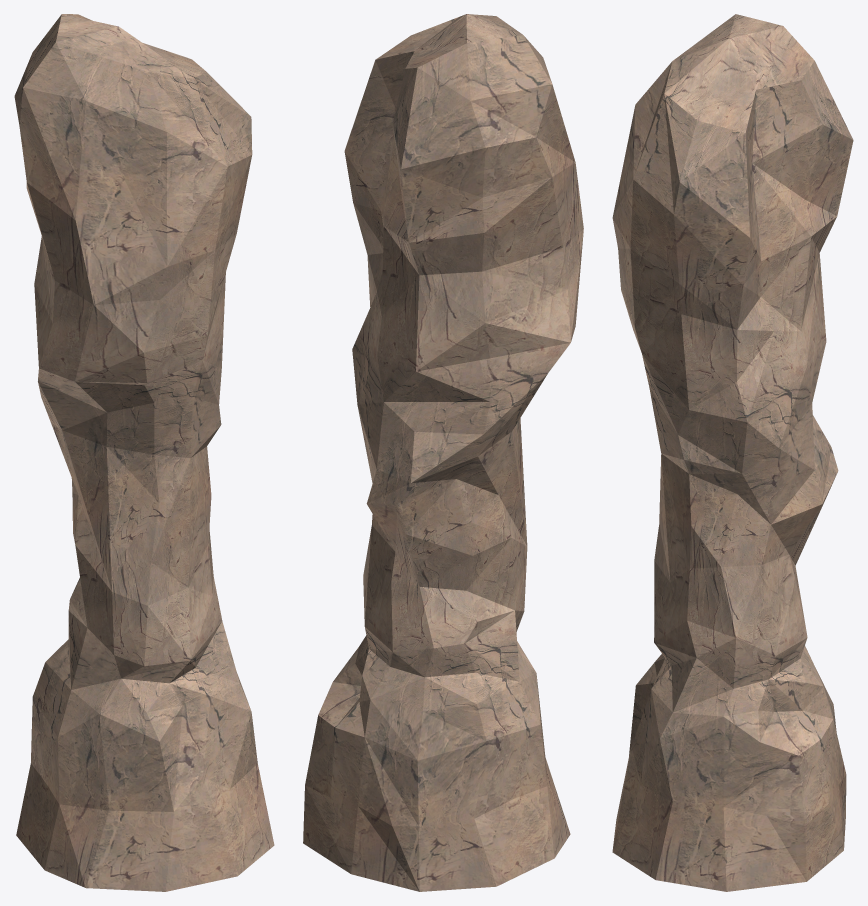
The model's file is rock_tatt_spire_smooth_a1_l0.fbx.
3 renders of one model, left to right at view 1: azimuth 30°, elevation 25°; view 2: azimuth 150°, elevation 25°; view 3: azimuth 270°, elevation 25°, orthographic. The views are drawn at different scales.
Visible parts, largest first — view 1: mesh_node; view 2: mesh_node; view 3: mesh_node.
Part boxes in pixels (box(x1,y1,x2,y2)): mesh_node: box(14, 14, 274, 891); mesh_node: box(303, 14, 583, 891); mesh_node: box(612, 14, 853, 891).
Size of the model in its own units: 19.73 by 65.98 by 18.32.
